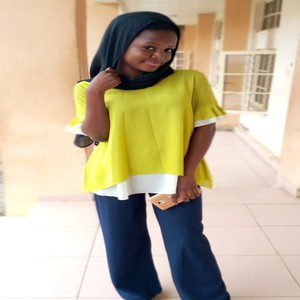Fulokoja_female_student: (87, 12, 200, 290)
